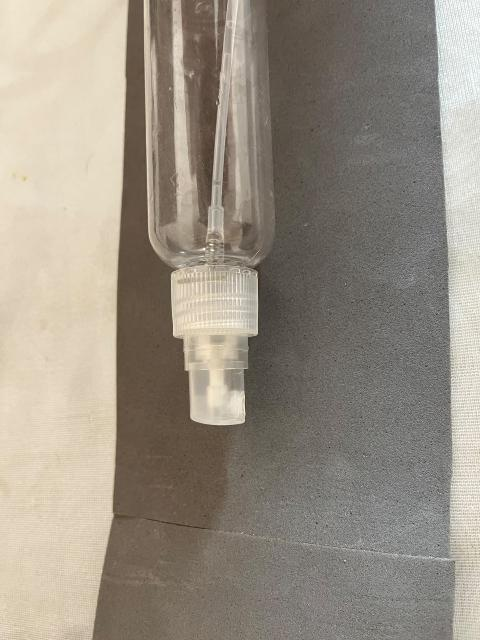PET: (93, 0, 349, 427)
